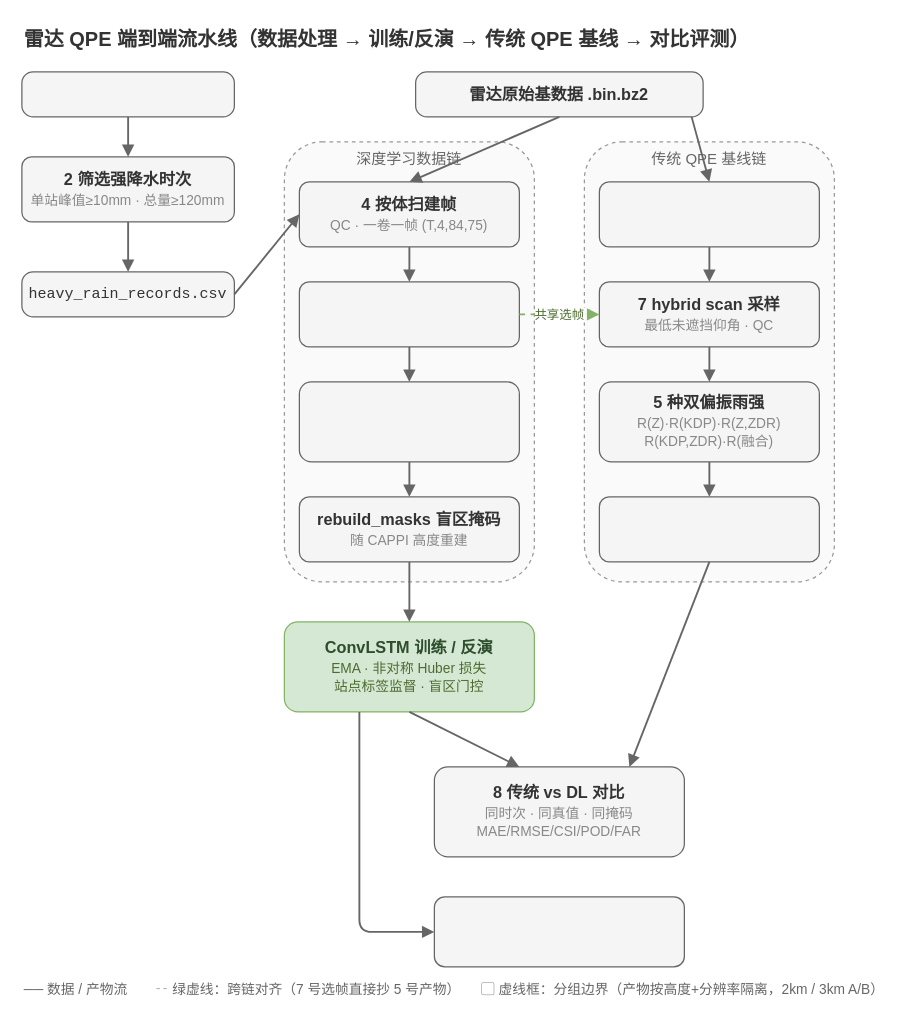
Some shapes in this 906 by 1033 pixel diagram are drawn without their labels. The box of each missing label's shape, as (x1, y1, x2, y2) in pixels:
10 消融实验 复用训练入口 · ≥3 种子: (433, 896, 684, 967)
5 窗口组合样本 窗口(dt−65,dt] · 变长T: (298, 281, 519, 347)
6 站点标签与QC 读站点CSV · 两层QC降权 gaugeLabel · gaugeMask: (298, 381, 519, 462)
7a 波束遮挡图 跨天持久率统计: (598, 181, 819, 247)
IDW 网格化 → 1h 积分 积分域夹到 [−60,0] min: (598, 496, 819, 562)
站点小时 CSV: (21, 71, 234, 117)
